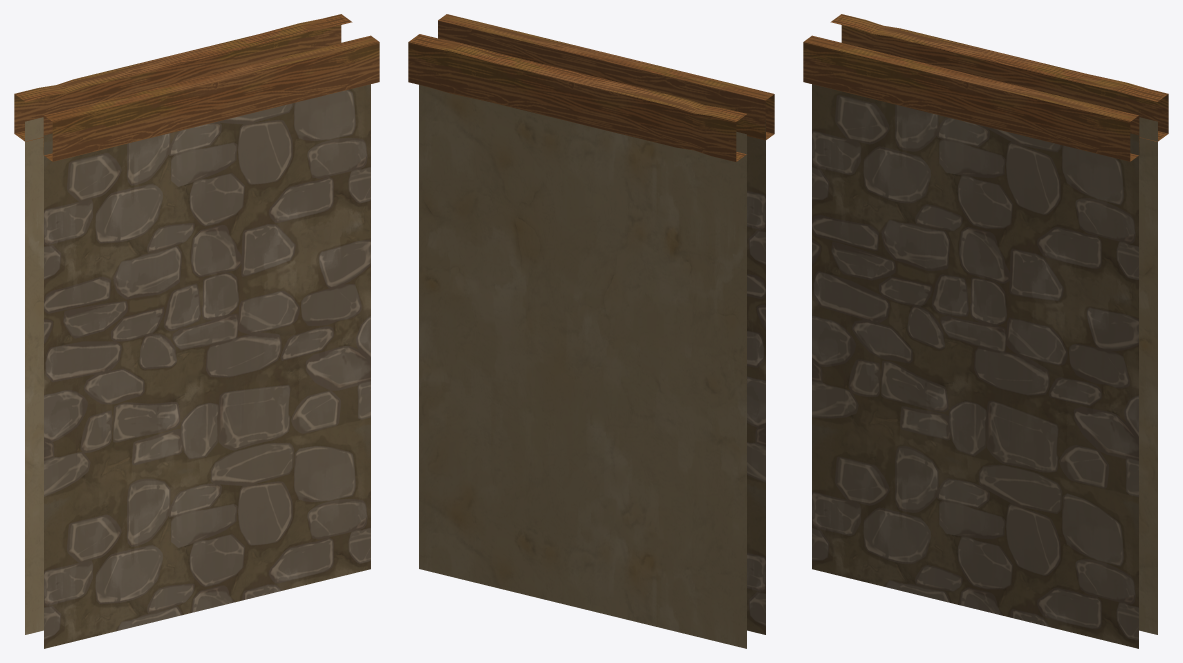
3 views of the same model, side by side, from view 1: azimuth 30°, elevation 25°; view 2: azimuth 150°, elevation 25°; view 3: azimuth 330°, elevation 25° (orthographic).
Parts seen in each view (by area): view 1: 5fb692d9d4e99bd87aee423f7a04df49ce0569c26298299884ad45022f8a; view 2: 5fb692d9d4e99bd87aee423f7a04df49ce0569c26298299884ad45022f8a; view 3: 5fb692d9d4e99bd87aee423f7a04df49ce0569c26298299884ad45022f8a.
Part boxes in pixels (x1,y1,x2,y2): 5fb692d9d4e99bd87aee423f7a04df49ce0569c26298299884ad45022f8a: [14, 14, 379, 648]; 5fb692d9d4e99bd87aee423f7a04df49ce0569c26298299884ad45022f8a: [408, 14, 774, 648]; 5fb692d9d4e99bd87aee423f7a04df49ce0569c26298299884ad45022f8a: [803, 14, 1168, 648].
Bounding box in the file's own units: 2 × 3.12 × 0.4065.
Materials: 3 (3 with a texture image).
